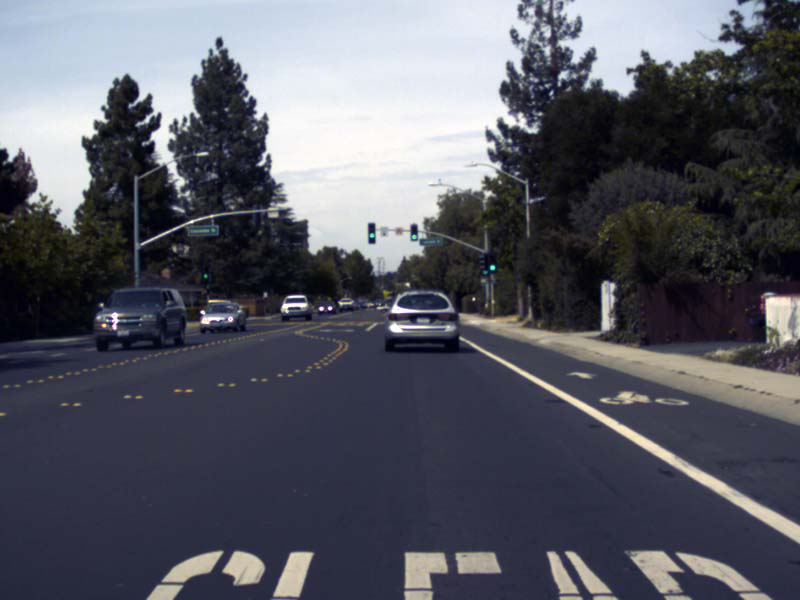Green: (488, 254, 495, 270), (369, 223, 374, 243), (202, 264, 208, 280), (411, 225, 416, 239)
